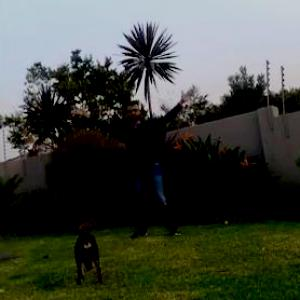takeoff: (62, 94, 182, 242)
